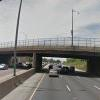Bridge: (2, 34, 96, 61)
